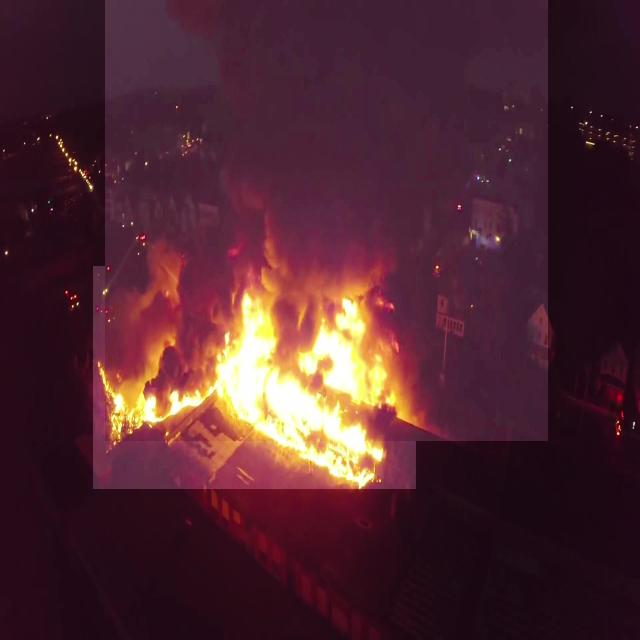Fire: (93, 266, 416, 489)
Smoke: (105, 0, 548, 441)
